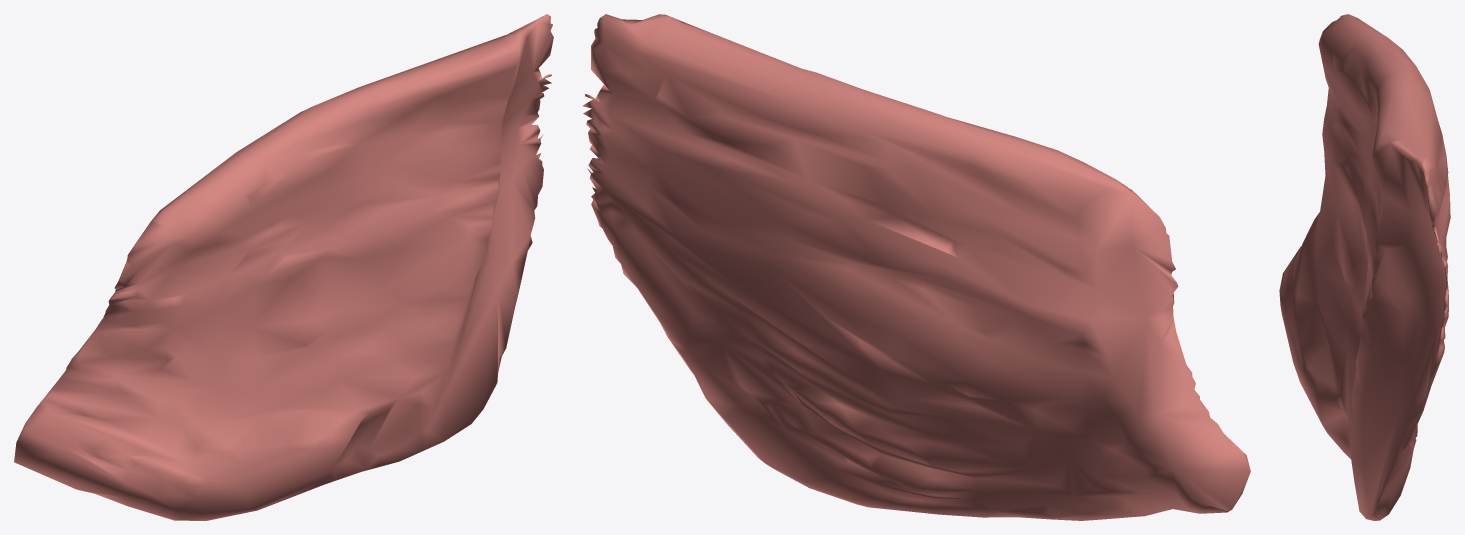
The picture shows the model from 3 angles, left to right: view 1: azimuth 30°, elevation 25°; view 2: azimuth 150°, elevation 25°; view 3: azimuth 270°, elevation 25°; orthographic projection. The views are drawn at different scales.
Parts seen in each view (by area): view 1: ZA_1f8bcf2fcd15572f; view 2: ZA_1f8bcf2fcd15572f; view 3: ZA_1f8bcf2fcd15572f.
Part boxes in pixels (<box>): ZA_1f8bcf2fcd15572f: <box>14,14,553,520</box>; ZA_1f8bcf2fcd15572f: <box>582,14,1250,520</box>; ZA_1f8bcf2fcd15572f: <box>1279,14,1450,520</box>.
Bounding box in the file's own units: 0.0685 × 0.0457 × 0.0161.
